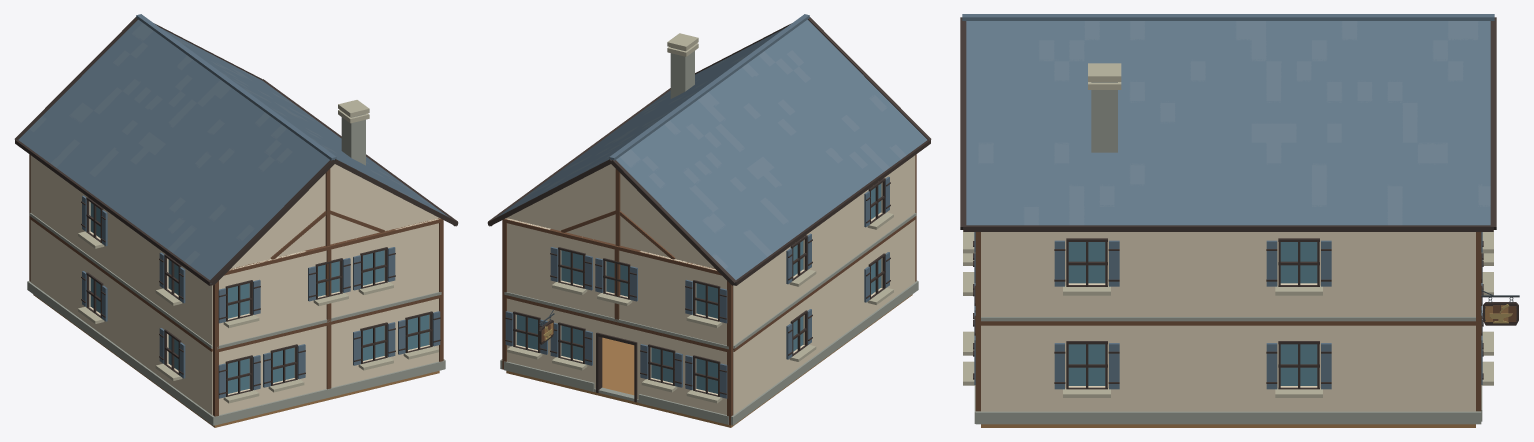
The model's file is SM_Smithy.glb.
The picture shows the model from 3 angles, left to right: view 1: azimuth 30°, elevation 25°; view 2: azimuth 150°, elevation 25°; view 3: azimuth 270°, elevation 25°; orthographic projection. The views are drawn at different scales.
Visible parts, largest first — view 1: SM_Smithy; view 2: SM_Smithy; view 3: SM_Smithy.
Part boxes in pixels (x1=…): SM_Smithy: x1=14, y1=14, x2=458, y2=427; SM_Smithy: x1=487, y1=14, x2=931, y2=427; SM_Smithy: x1=960, y1=14, x2=1519, y2=427.
Bounding box in the file's own units: 11.06 × 10.54 × 15.83.
